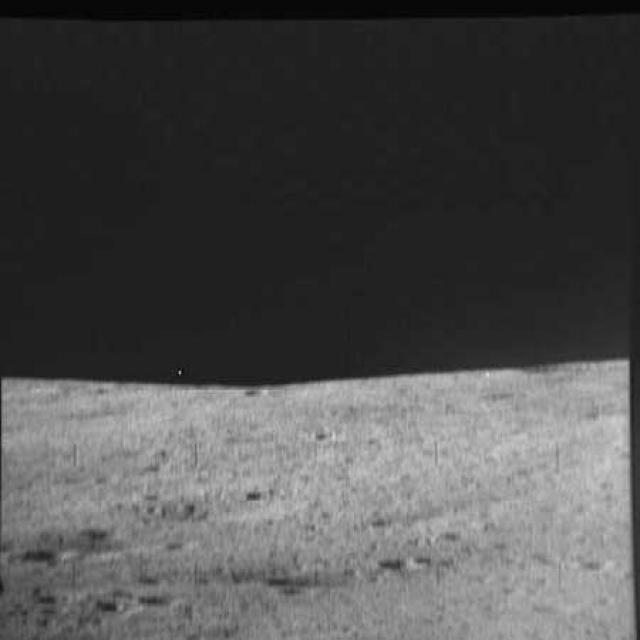crater: (5, 539, 80, 572), (232, 477, 282, 509), (366, 554, 423, 580), (74, 521, 120, 548), (138, 590, 190, 610), (88, 596, 130, 620)
